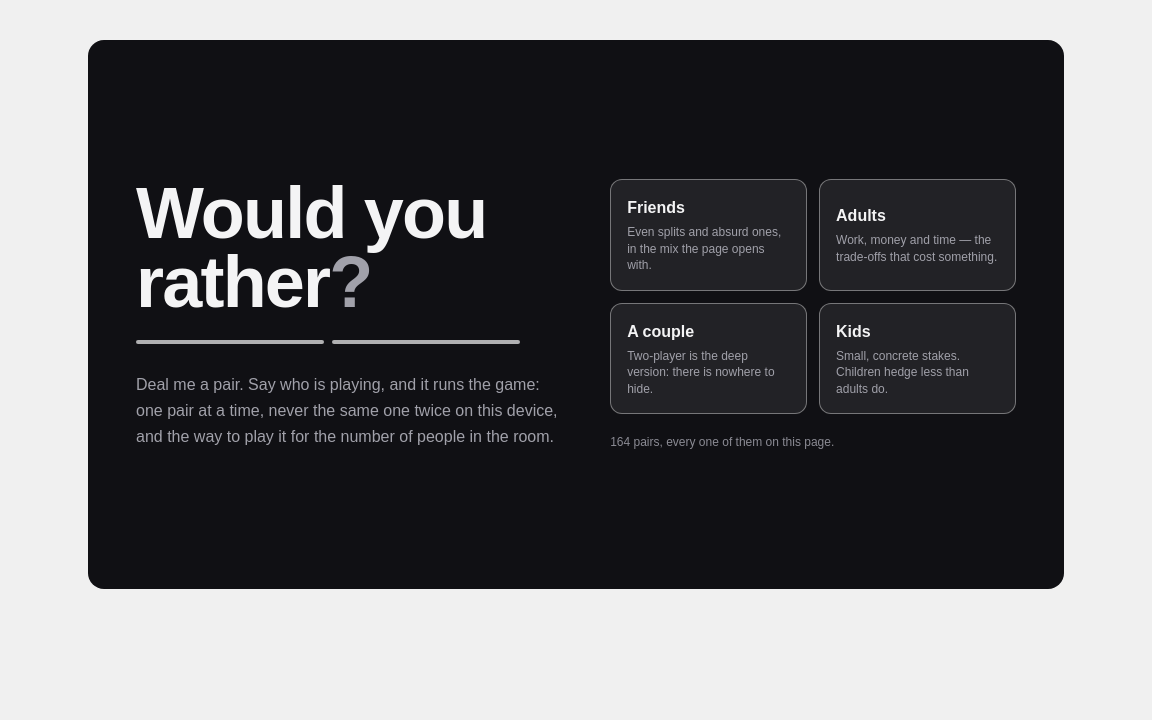
it: WouldYouRather › says how to run it for the size the room chose
The width and height of the screenshot is (1152, 720).
Click the button "Friends".
click(709, 235)  # box [610, 179, 807, 290]
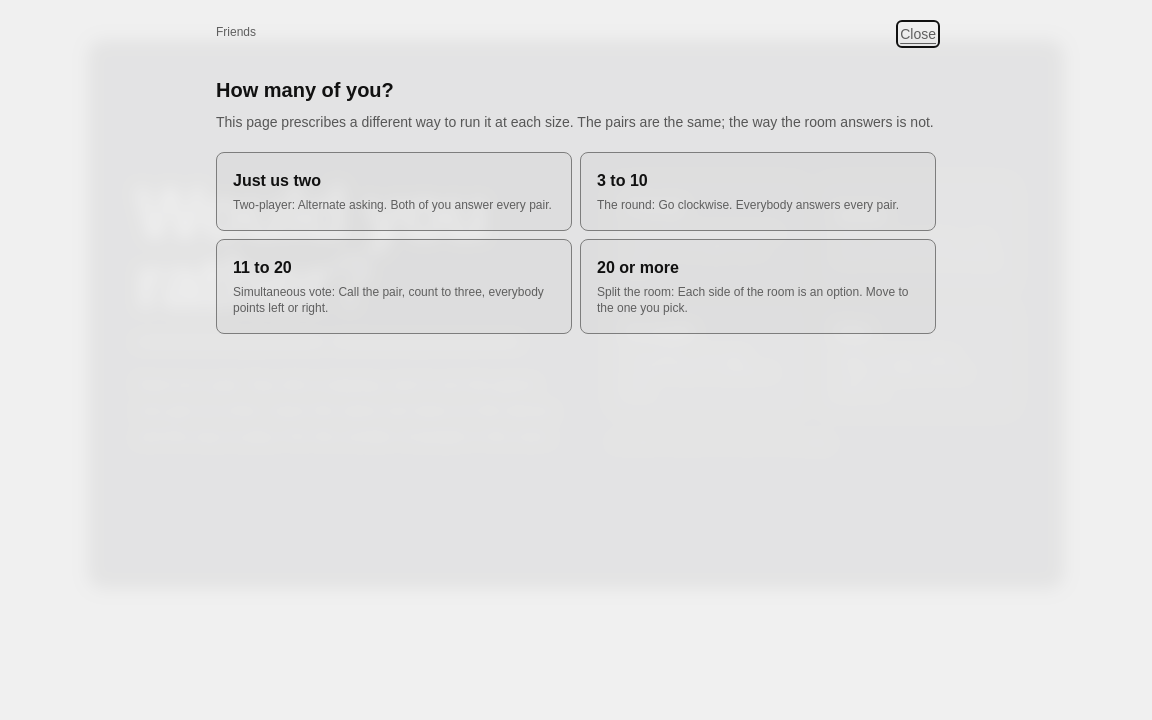
Click the button "20 or more".
click(758, 286)  # box [580, 238, 936, 334]
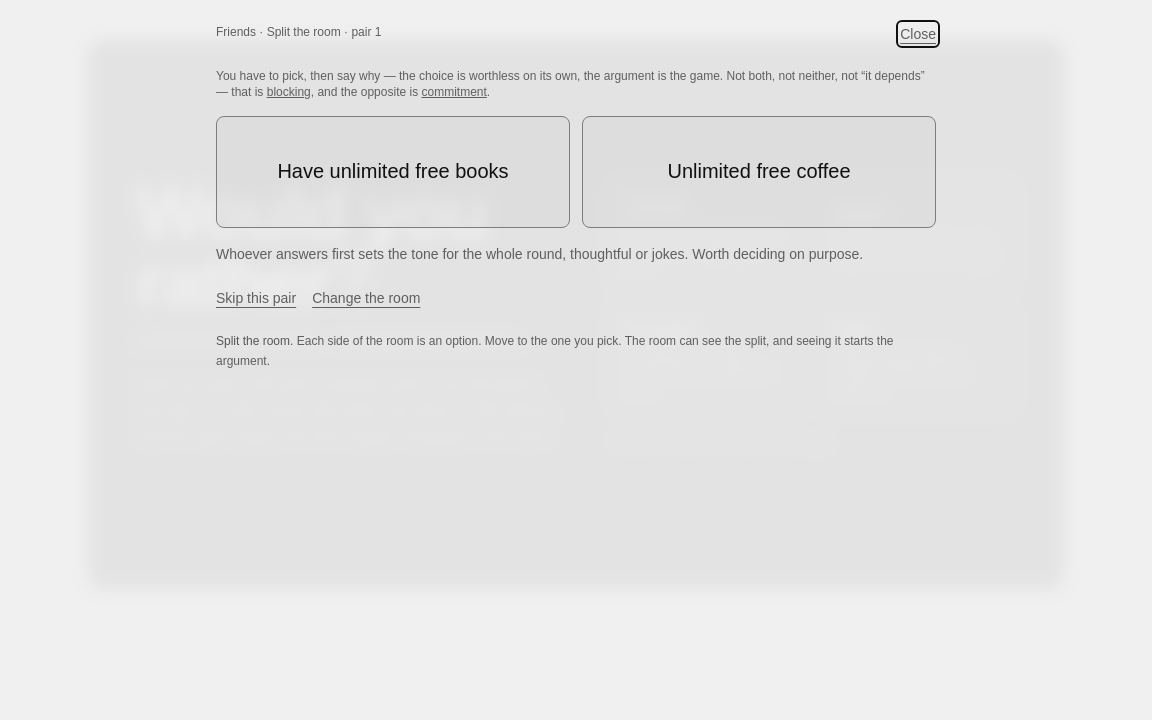
Check: the text "Friends · Split the room · pair 1" is shown, box [216, 24, 381, 40]
Check: the text "Move to the one you pick" is shown, box [297, 334, 622, 348]
